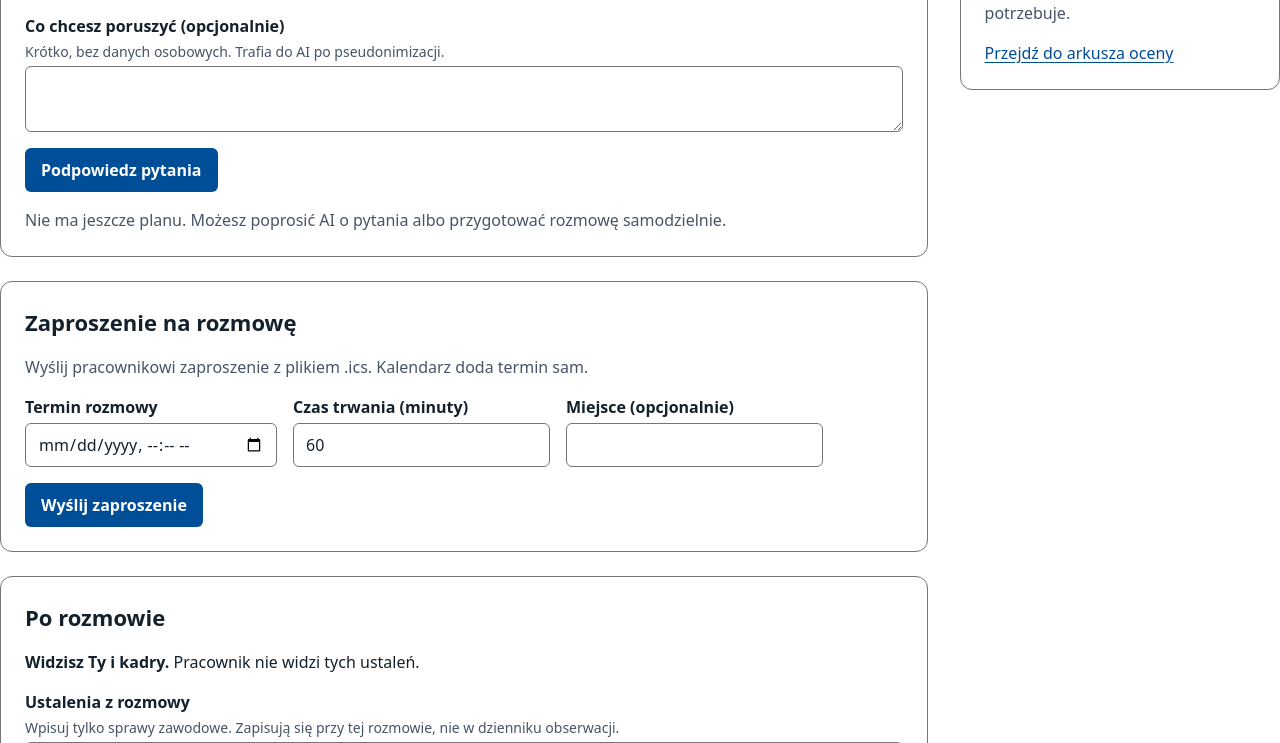
it: ConversationPage › sends the invitation through mail.scheduleConversation
(page scrolled)
Type "2099-01-01T10:00" into the field labelled "Termin rozmowy". click: [151, 445]
box: 25,423 -> 277,467
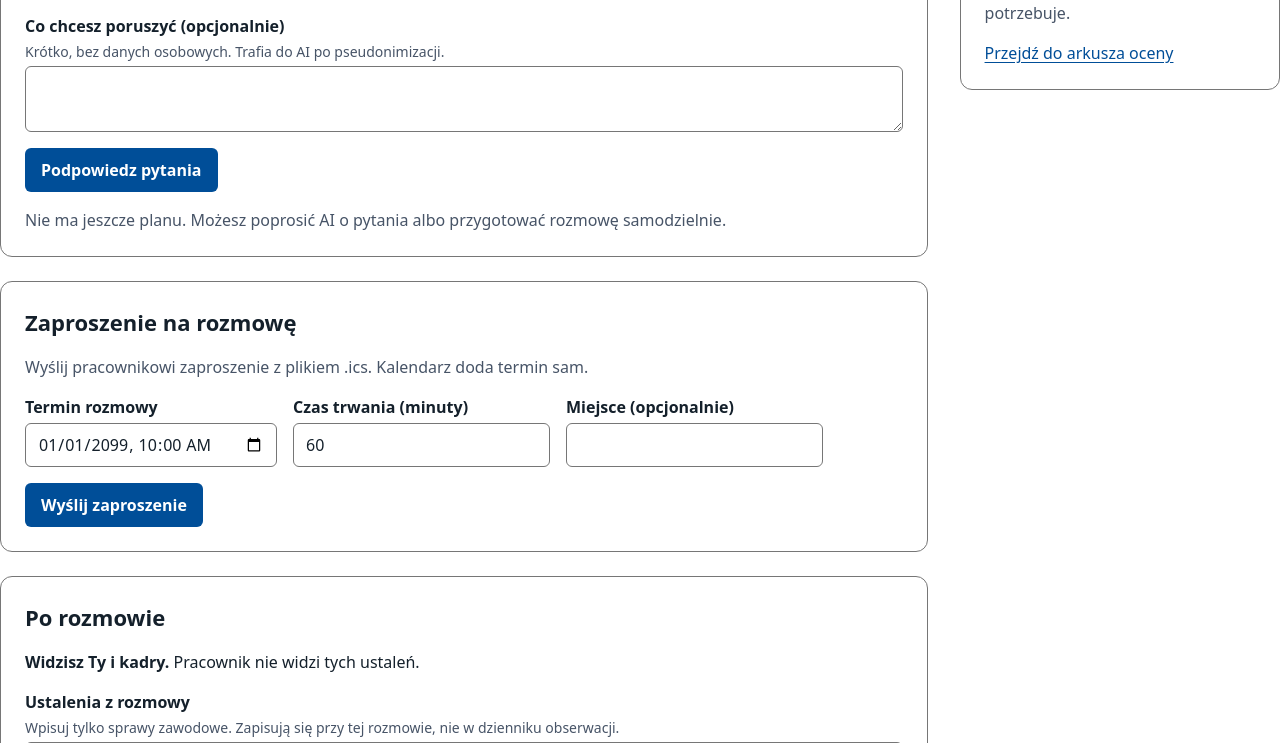
Type "Sala 12" into the field labelled "Miejsce (opcjonalnie)". click: [694, 445]
box: 566,423 -> 823,467
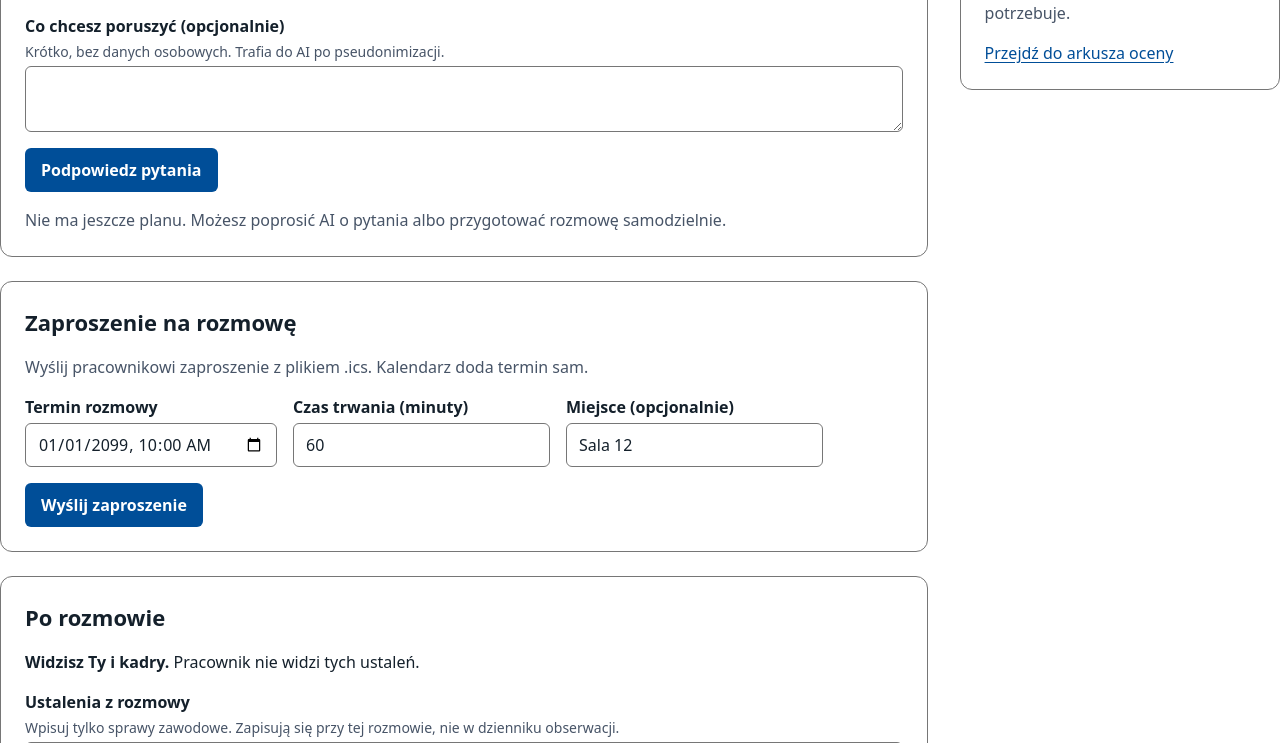
Click the button "Wyślij zaproszenie". click: [114, 505]
box: 25,483 -> 203,527
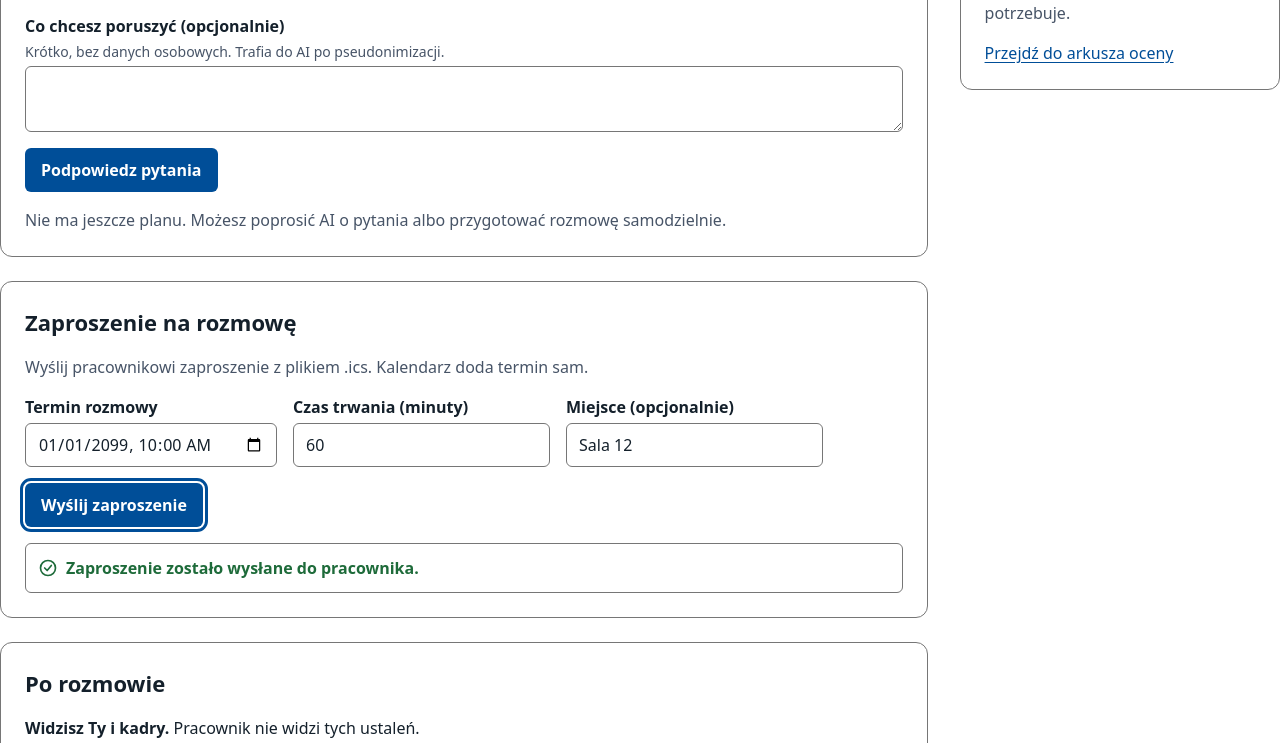
Expected: the message shows "Zaproszenie zostało wysłane", 66,557 -> 419,579
